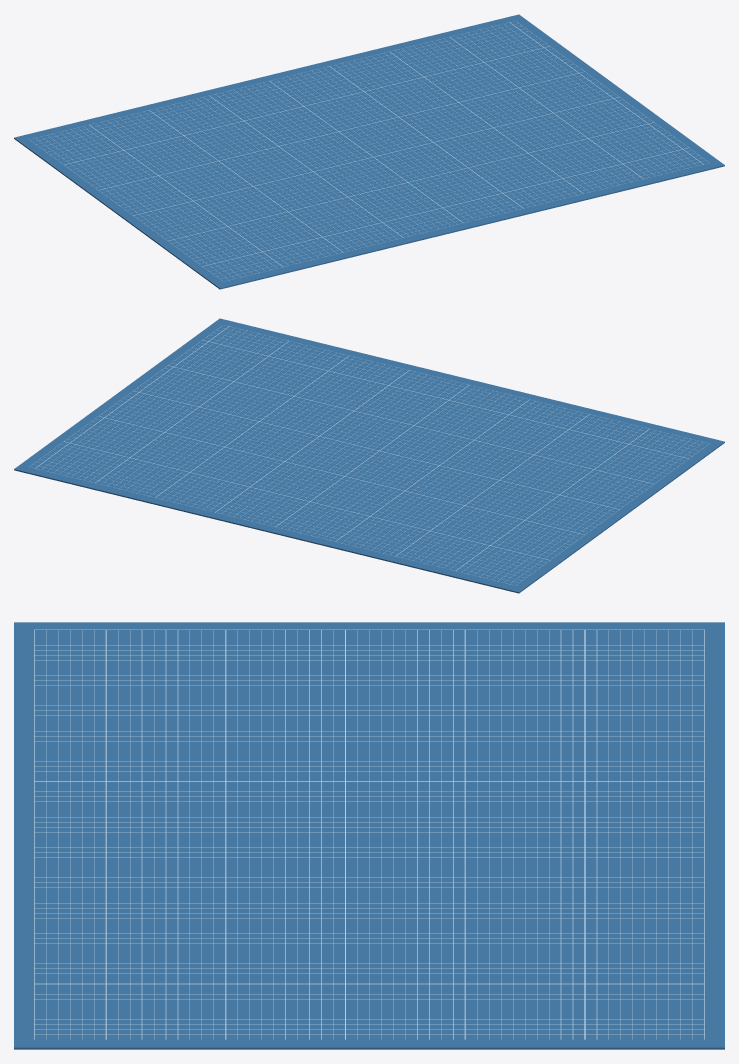
File: ocean.gltf
3 views of the same model, one above another, from view 1: azimuth 30°, elevation 25°; view 2: azimuth 150°, elevation 25°; view 3: azimuth 270°, elevation 25° (orthographic). The views are drawn at different scales.
Size of the model in its own units: 0.841 by 0.0021 by 0.594.
